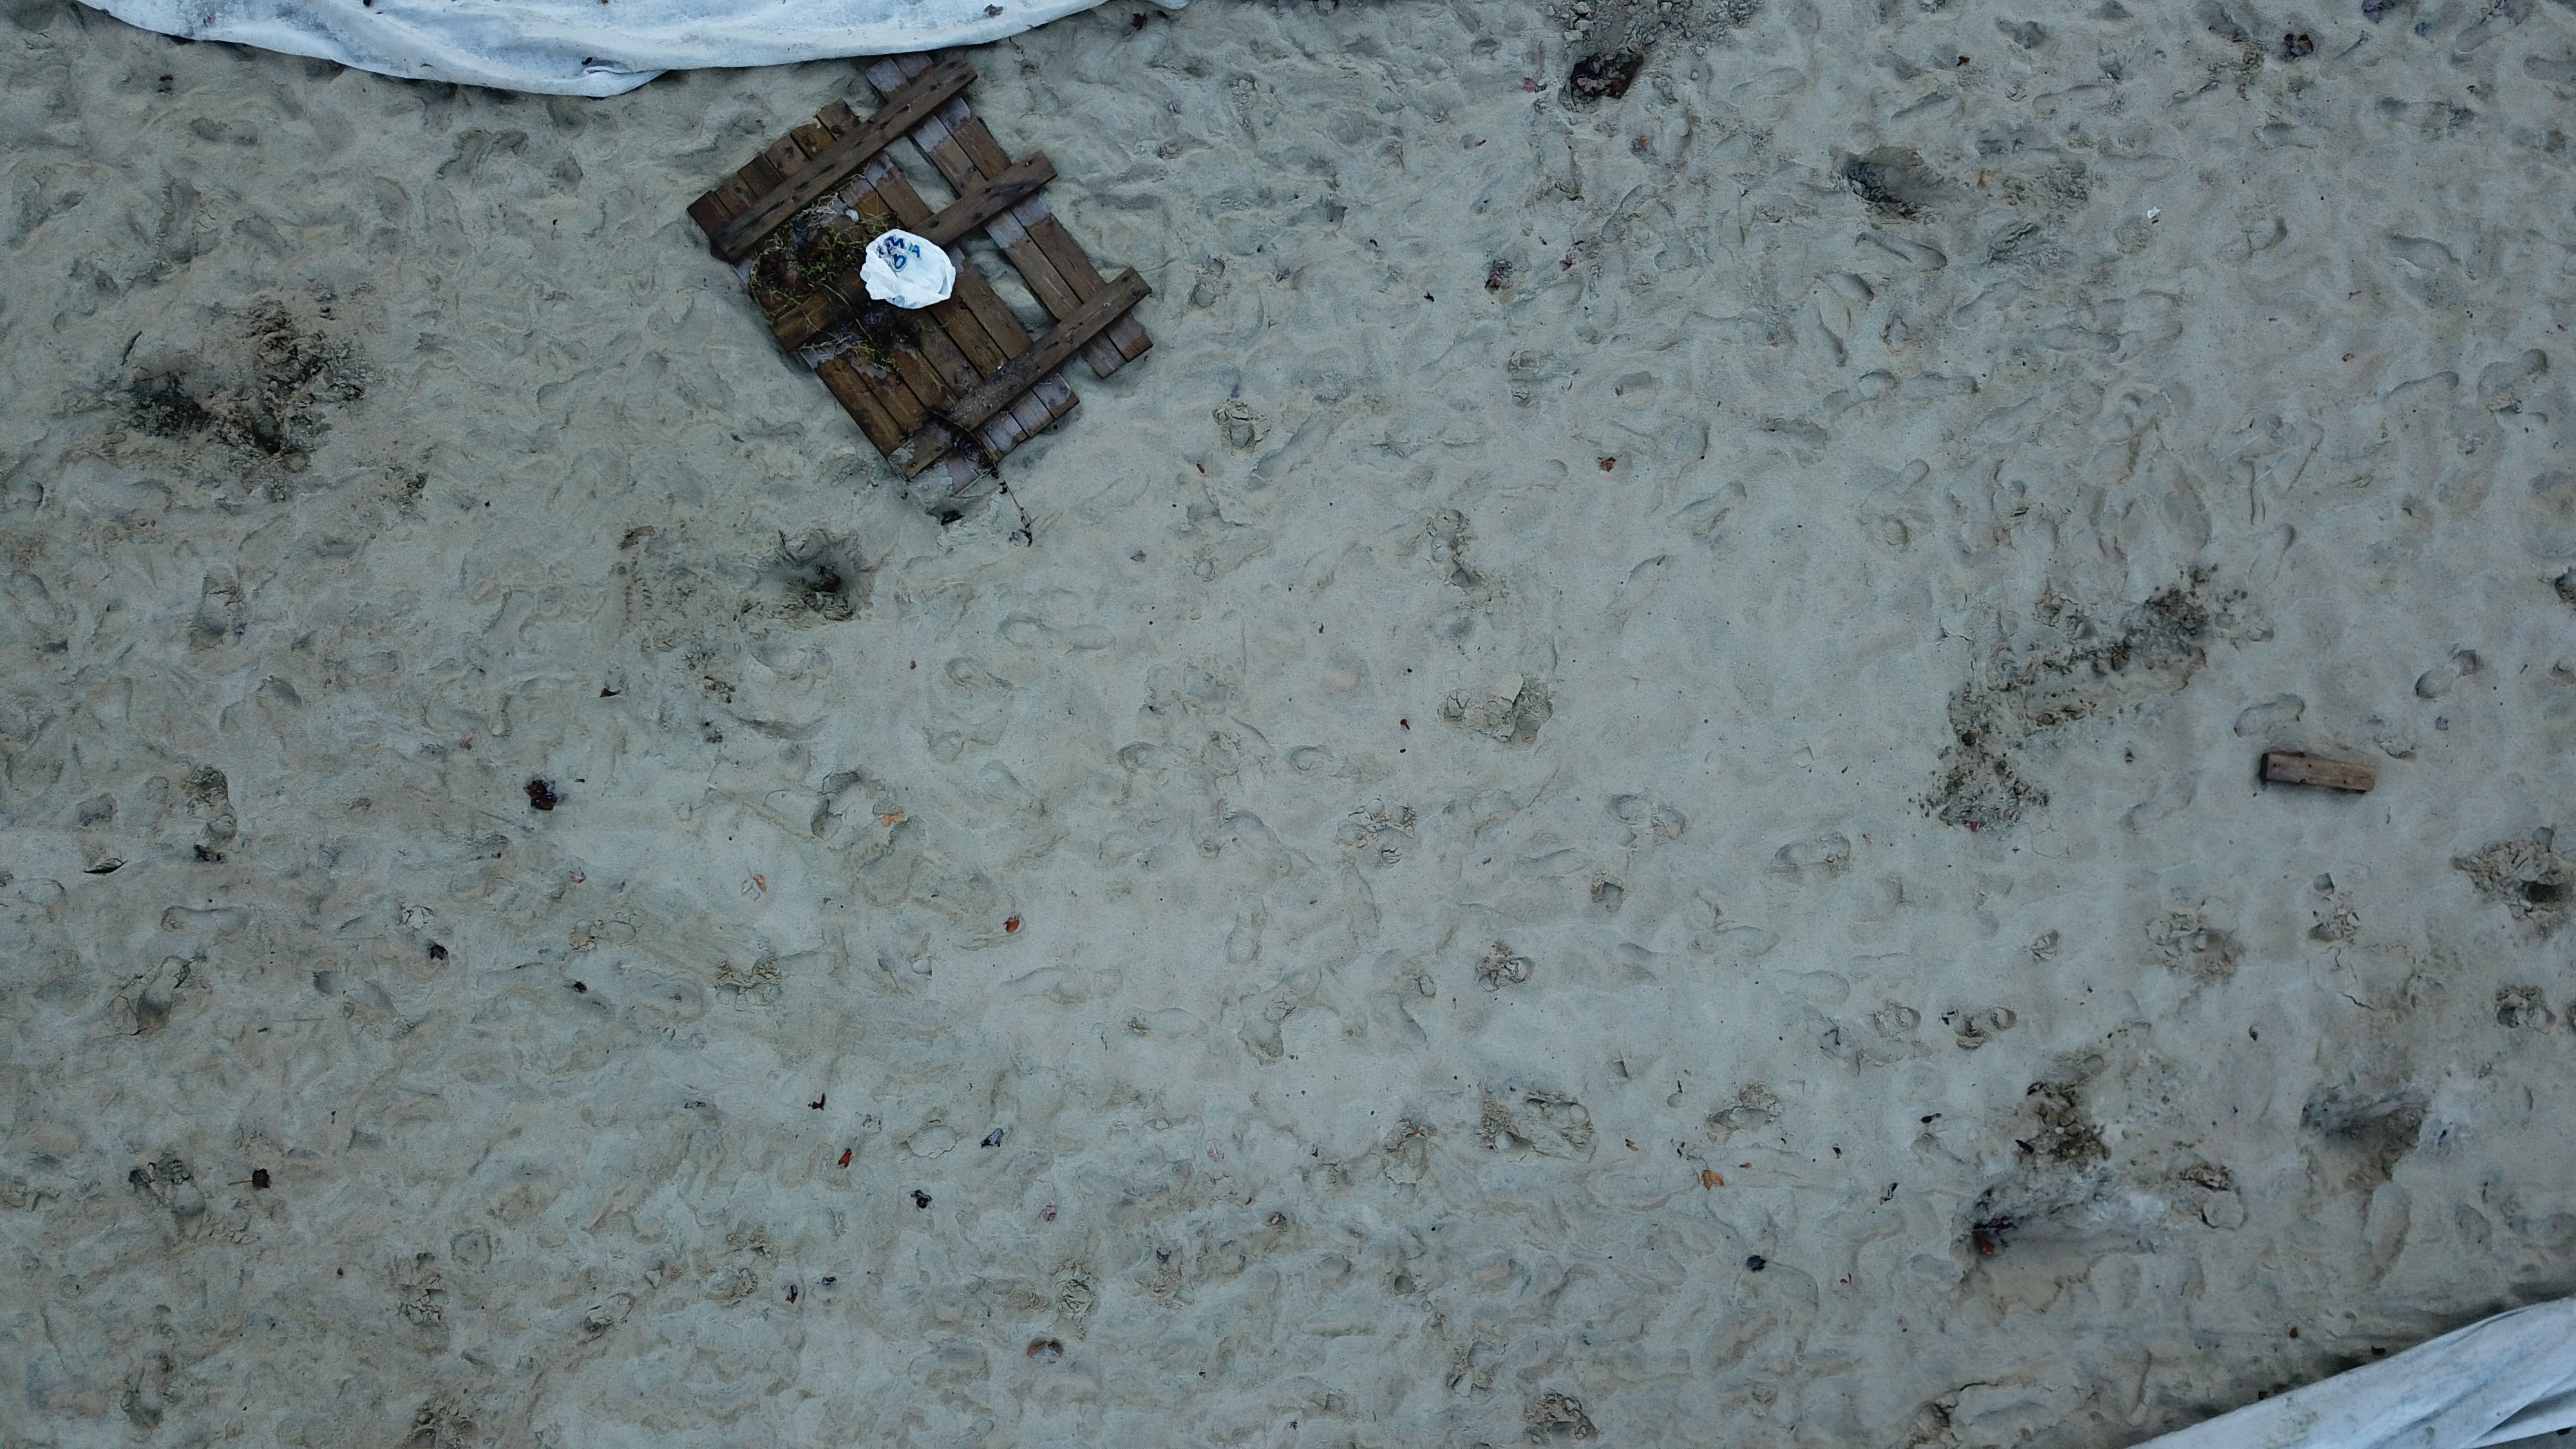Plastic: (867, 225, 959, 308), (984, 1125, 1003, 1150), (2148, 203, 2160, 219)
